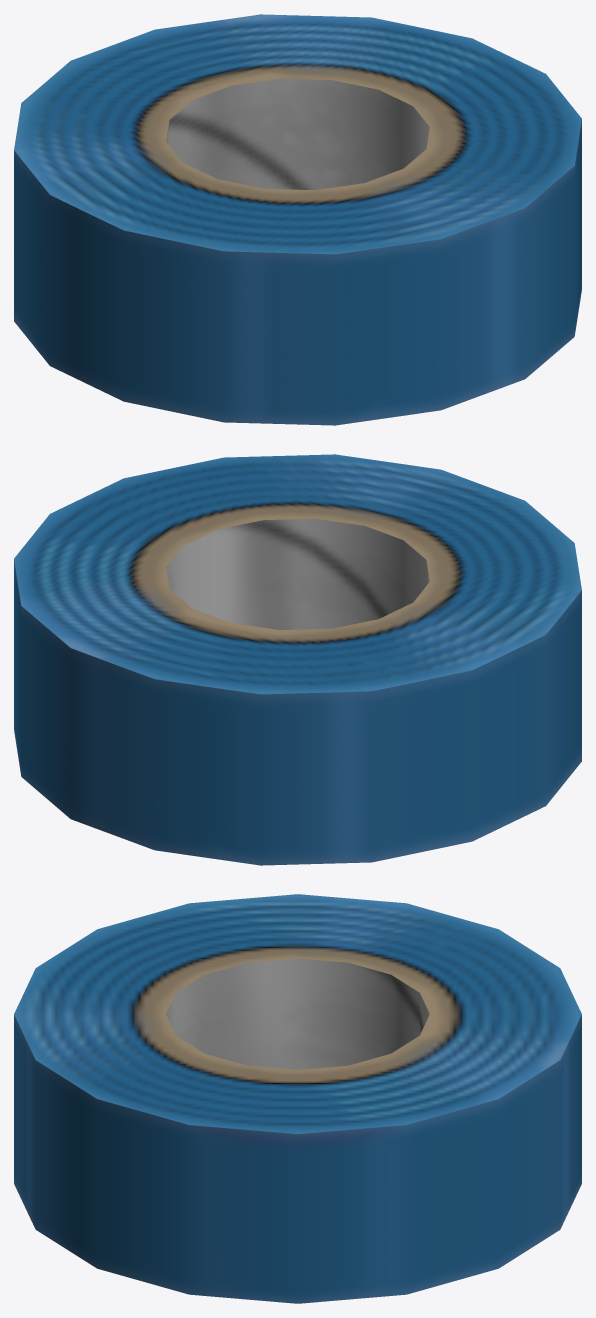
The model's file is ITEM_tape01.fbx.
3 renders of one model, top to bottom at view 1: azimuth 30°, elevation 25°; view 2: azimuth 150°, elevation 25°; view 3: azimuth 270°, elevation 25°, orthographic.
Parts seen in each view (by area): view 1: ITEM_tape01; view 2: ITEM_tape01; view 3: ITEM_tape01.
Part boxes in pixels (x1,y1,x2,y2): ITEM_tape01: (14, 14, 581, 425); ITEM_tape01: (14, 454, 581, 865); ITEM_tape01: (14, 894, 581, 1303).
Bounding box in the file's own units: 15.17 × 5 × 15.17.
